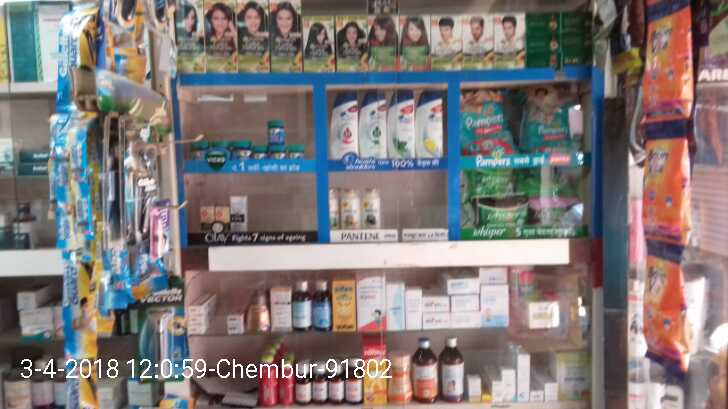vicks: (188, 116, 305, 161)
